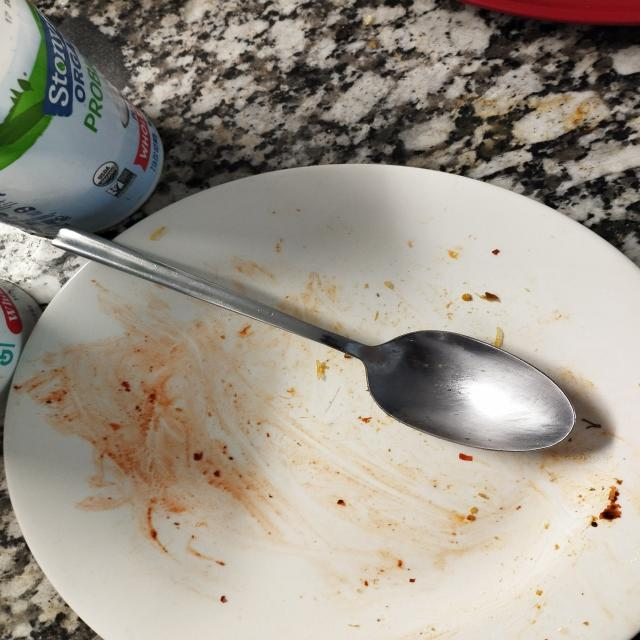Spoon: (26, 215, 594, 457)
